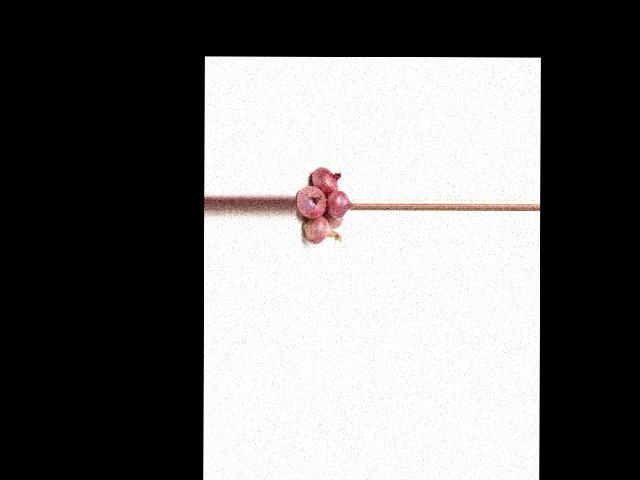onion: (295, 185, 326, 225)
